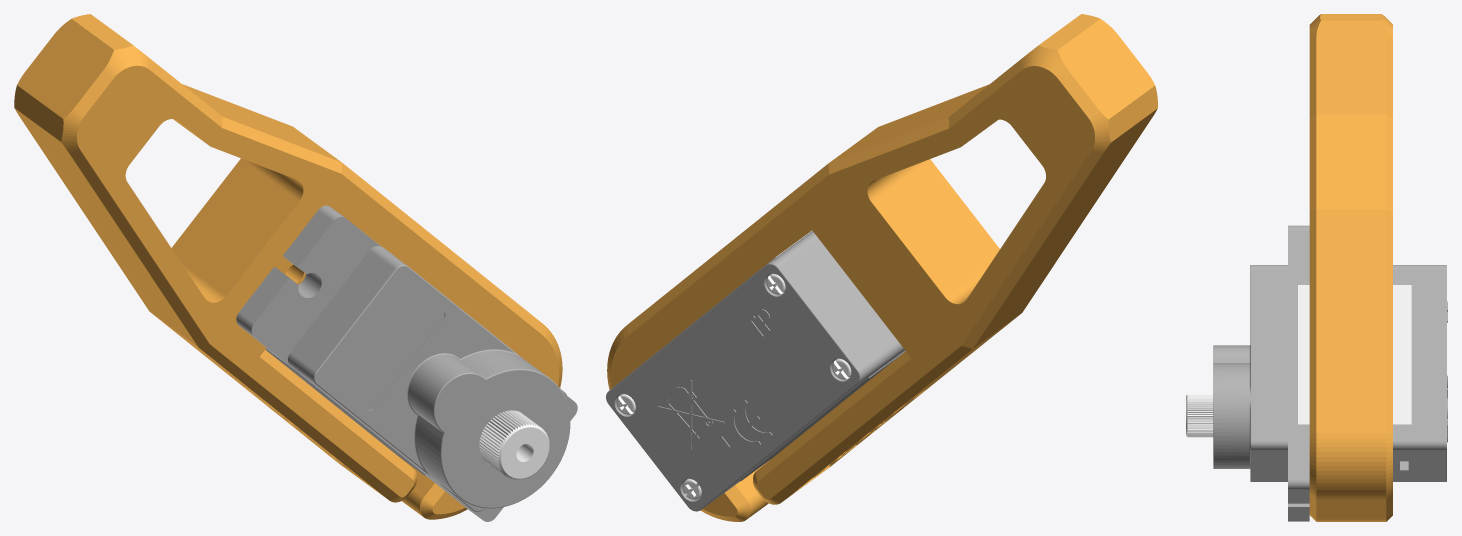
File: right_front_foot.glb
3 views of the same model, side by side, from view 1: azimuth 30°, elevation 25°; view 2: azimuth 150°, elevation 25°; view 3: azimuth 270°, elevation 25° (orthographic). The views are drawn at different scales.
Visible parts, largest first — view 1: foot_joint_r3, sg90_top_8, sg90_pin_8; view 2: foot_joint_r3, sg90_bottom_8, sg90_body_8, sg90_side_left_8; view 3: foot_joint_r3, sg90_top_8, sg90_bottom_8, sg90_side_right_8, sg90_pin_8, sg90_body_8.
Boxes of the visible parts, x1,y1,x2,y2 form: foot_joint_r3: (14, 14, 562, 519); sg90_top_8: (236, 205, 577, 521); sg90_pin_8: (479, 410, 549, 479); foot_joint_r3: (607, 14, 1157, 521); sg90_bottom_8: (606, 239, 893, 511); sg90_body_8: (737, 231, 904, 483); sg90_side_left_8: (740, 350, 905, 481); foot_joint_r3: (1309, 14, 1392, 521); sg90_top_8: (1213, 225, 1309, 521); sg90_bottom_8: (1400, 265, 1447, 481); sg90_side_right_8: (1298, 285, 1411, 424); sg90_pin_8: (1186, 394, 1213, 437); sg90_body_8: (1393, 265, 1399, 481).
Size of the model in its own units: 0.329 by 0.343 by 0.2097.
